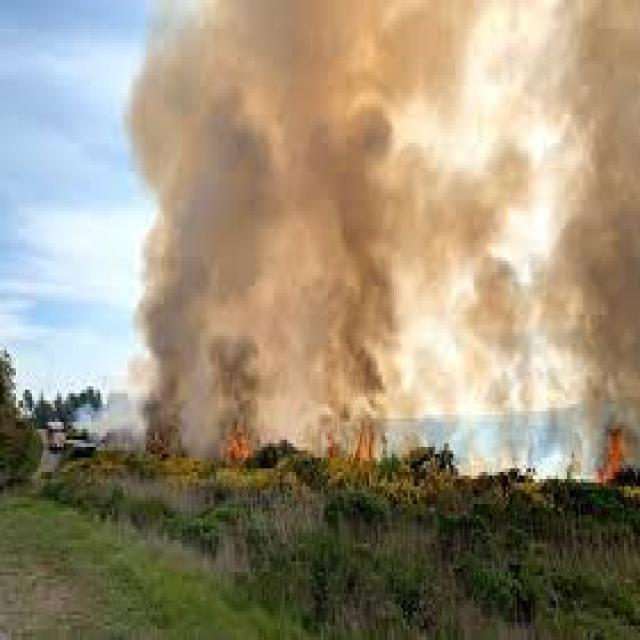Fire: (314, 382, 394, 497), (206, 400, 270, 506), (590, 402, 638, 499)
Smoke: (151, 1, 640, 358), (124, 9, 390, 373), (545, 0, 640, 442)
